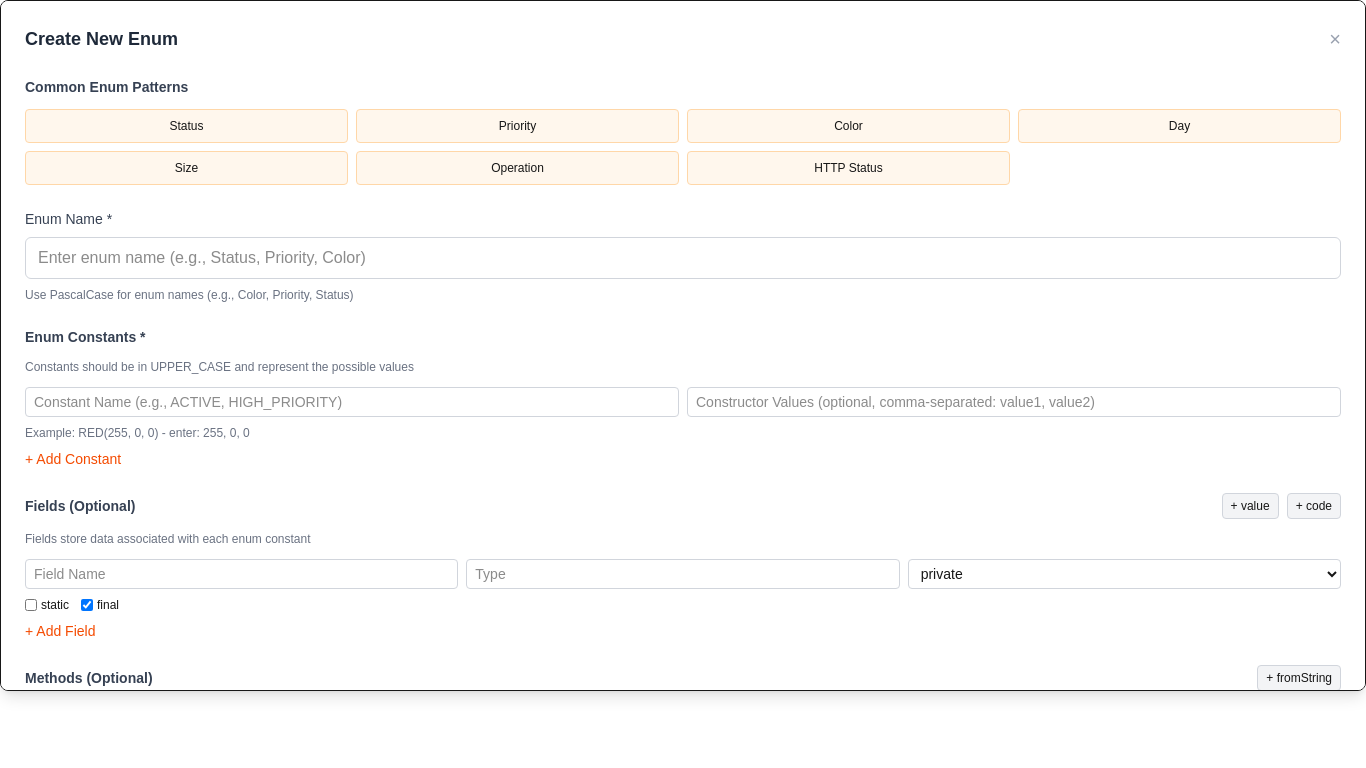
Test: CreateEnum component › adds enum constants
Add first constant
Type "ACTIVE" into the field with placeholder "Constant Name (e.g., ACTIVE, HIGH_PRIORITY)" at [352, 402], box [25,387,679,417]
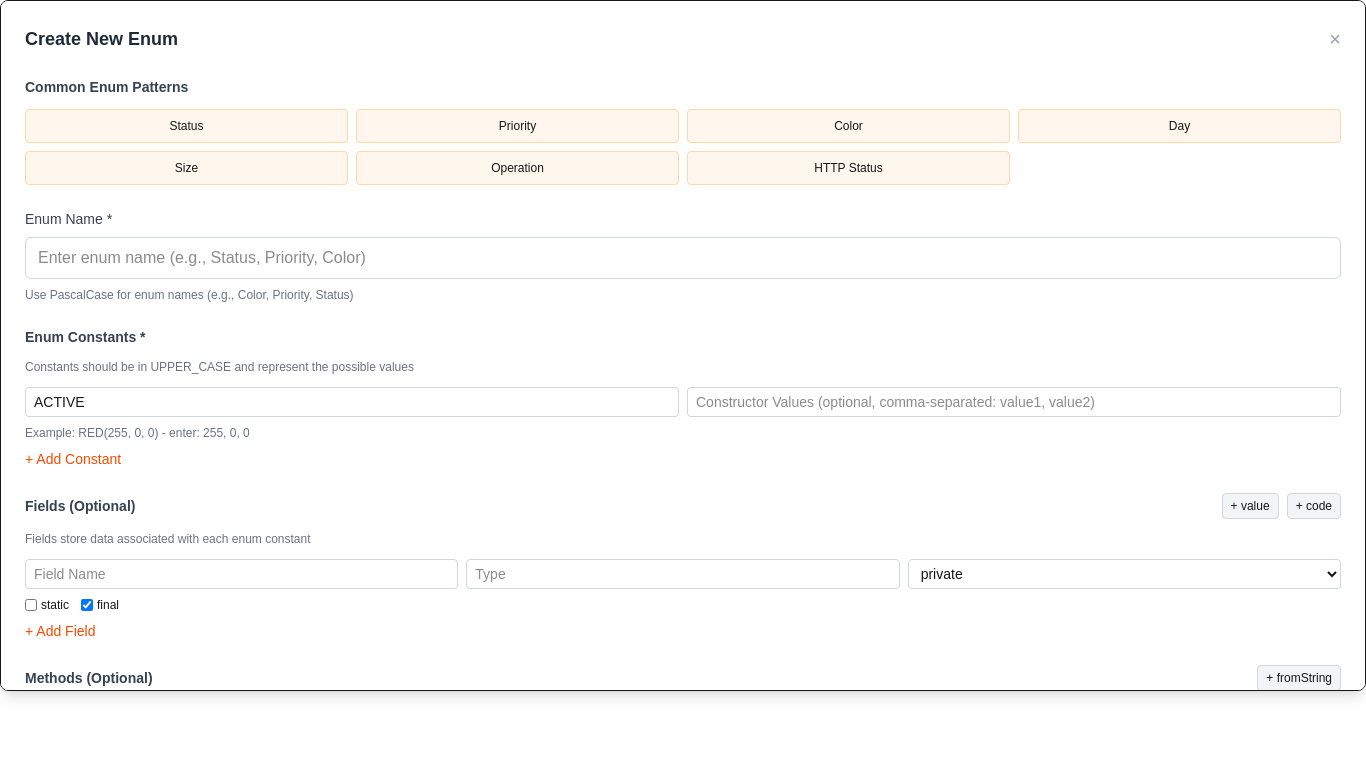
Click the button "+ Add Constant" at [73, 459], box [25,449,121,469]
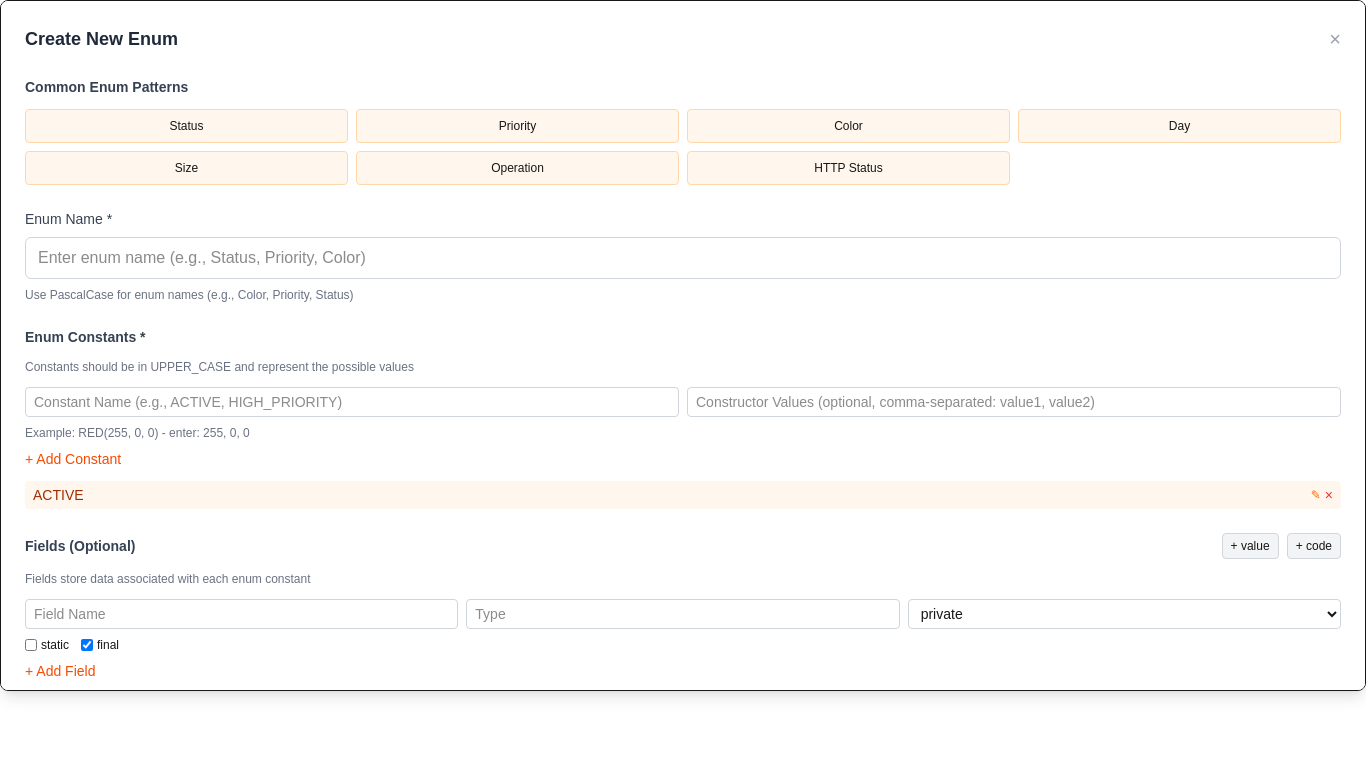
Expected: the text "ACTIVE" is shown, [33,487,84,503]
